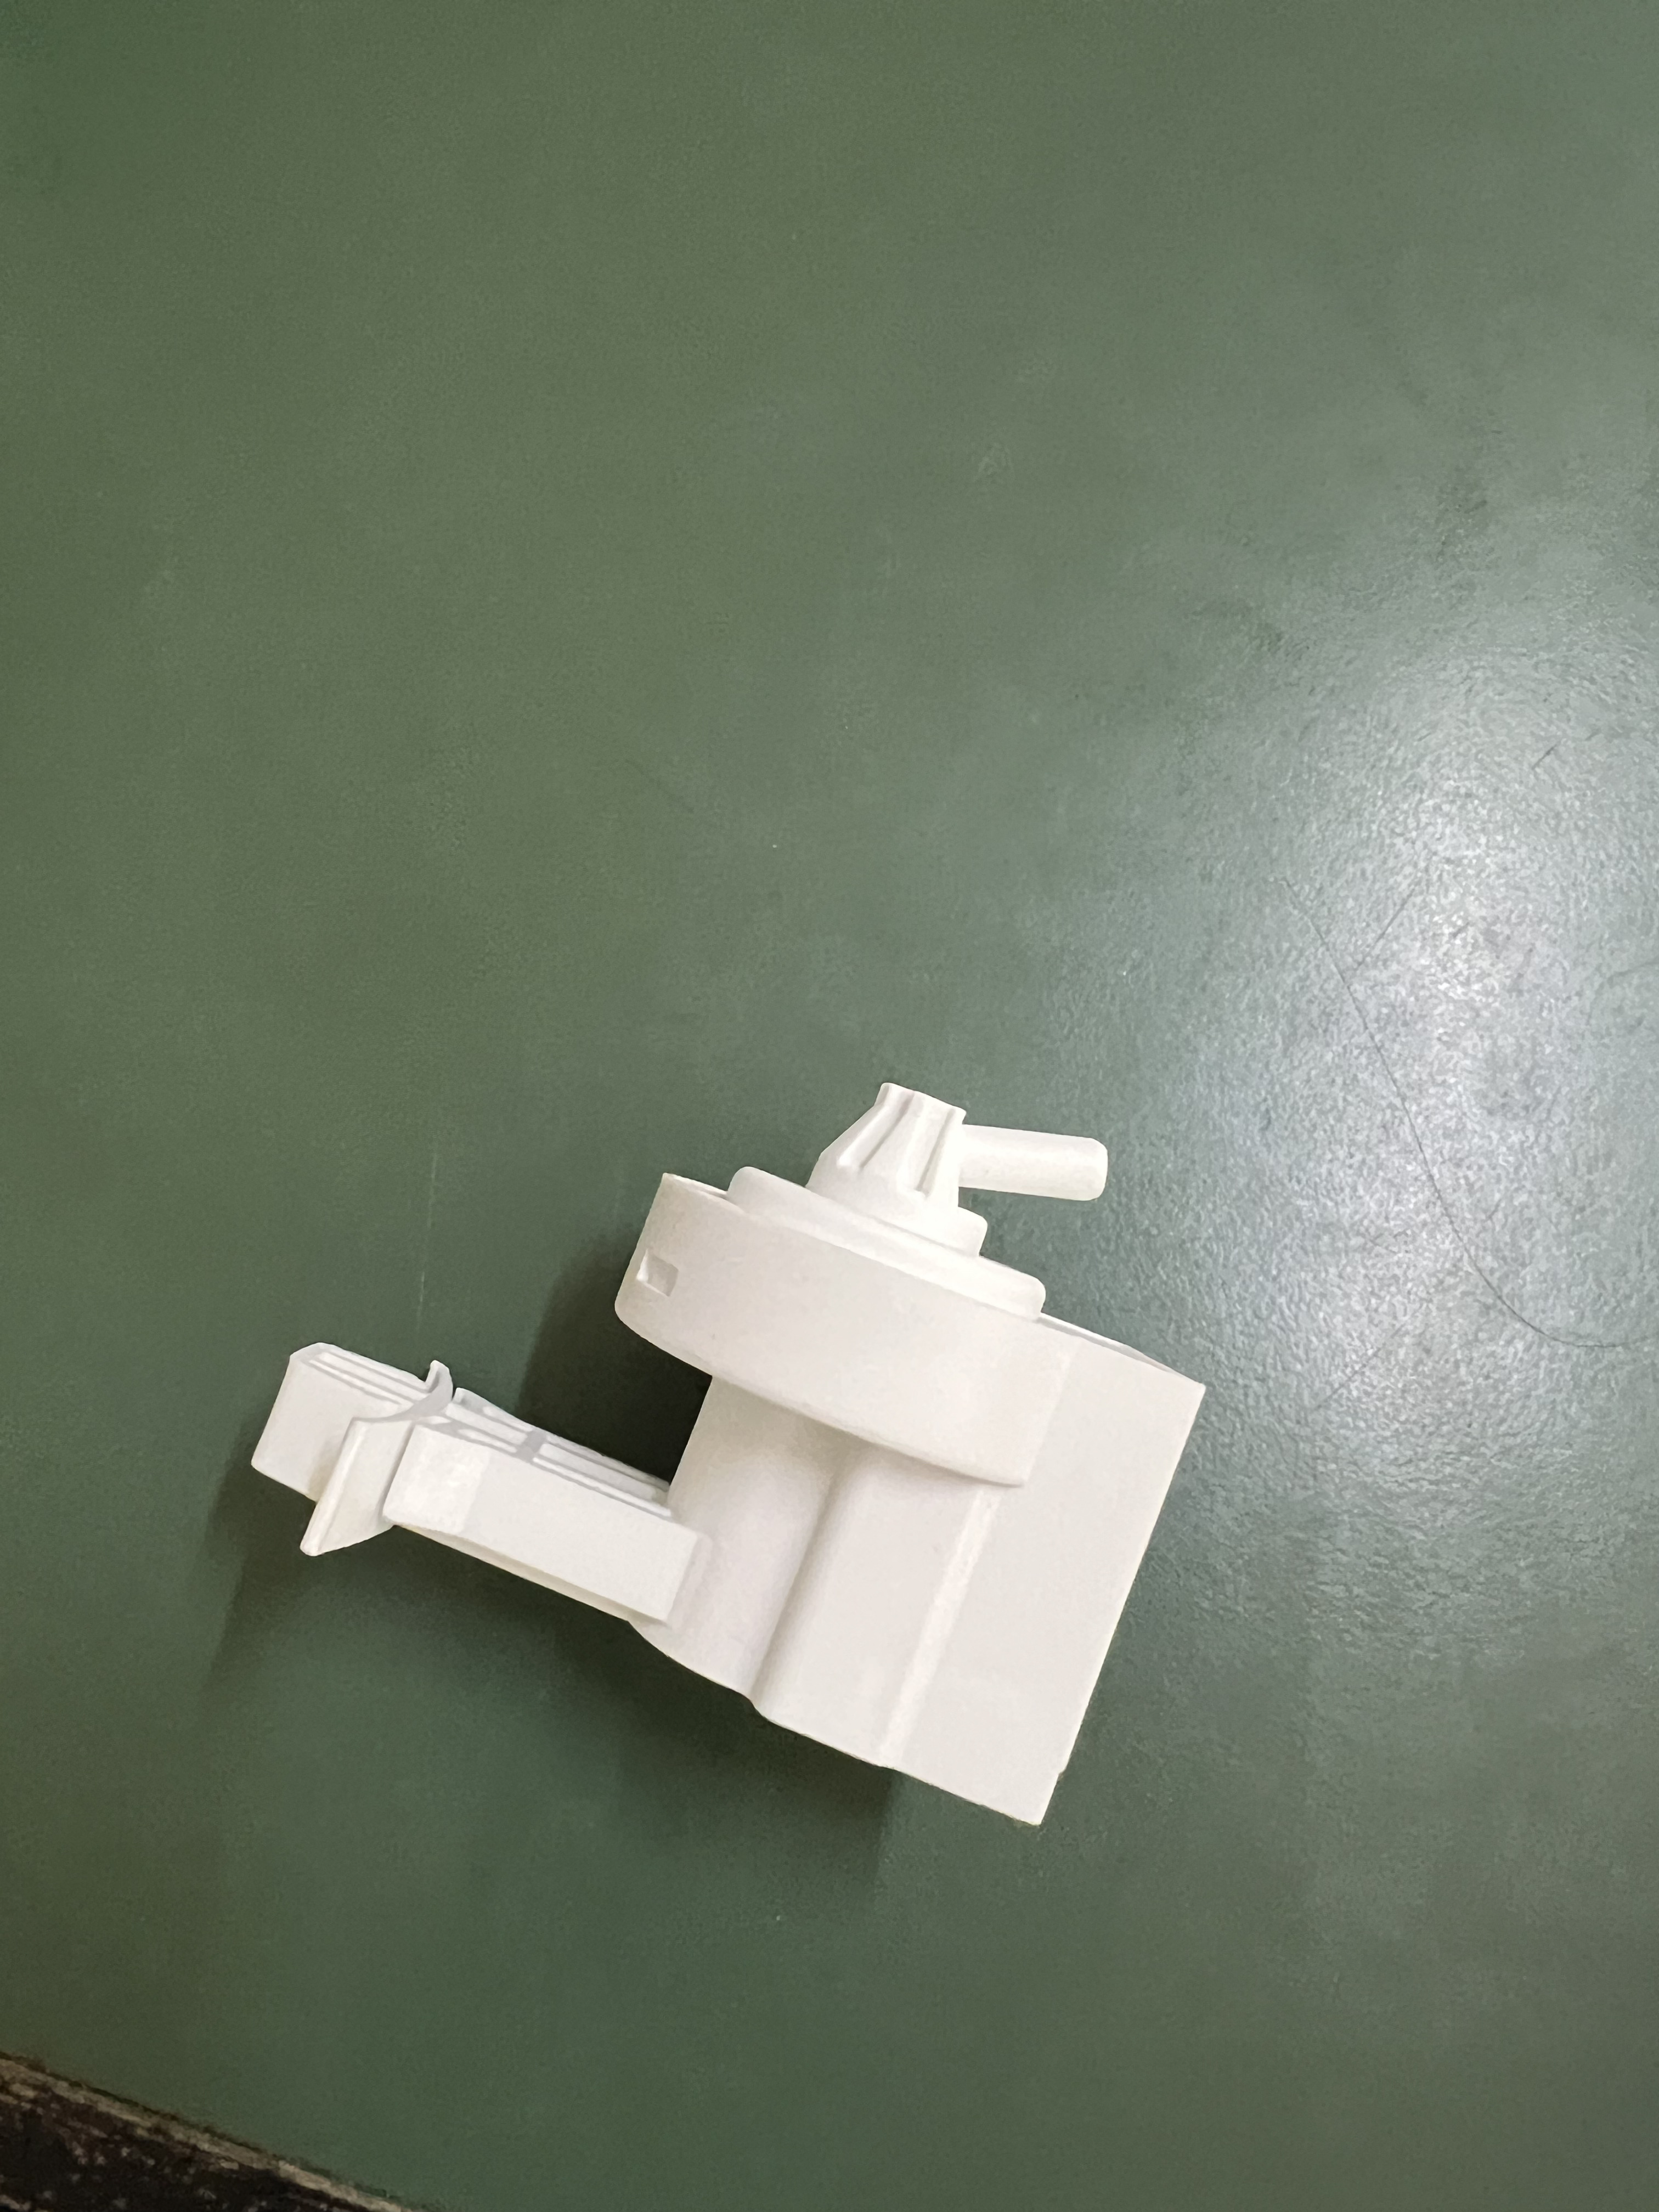pressure_switch_1: (244, 1035, 1195, 1855)
